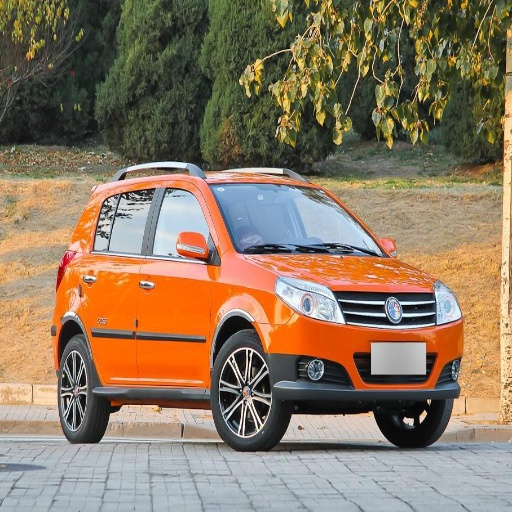front_bumper: (262, 292, 462, 403)
front_right_door: (138, 181, 218, 380)
front_right_light: (276, 280, 342, 323)
